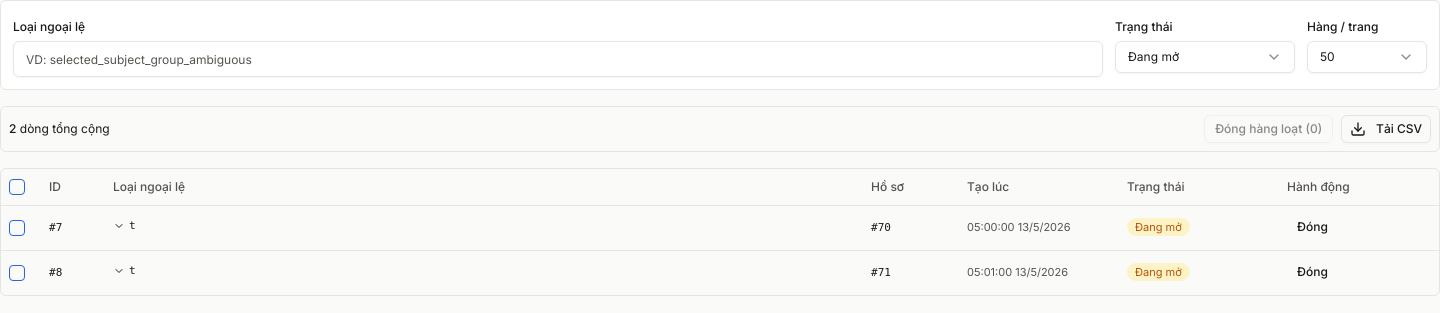
Test case: AdminBackfillQueue › checking row updates selected-counter + enables bulk button
Check: the row with test id "exception-row-7" is shown, box [1, 205, 1439, 250]
Check: the button with test id "bulk-resolve-button" is disabled, box [1204, 115, 1333, 143]
// Check row 7
Click the checkbox with test id "row-checkbox-7" at [17, 228], box [9, 220, 25, 236]
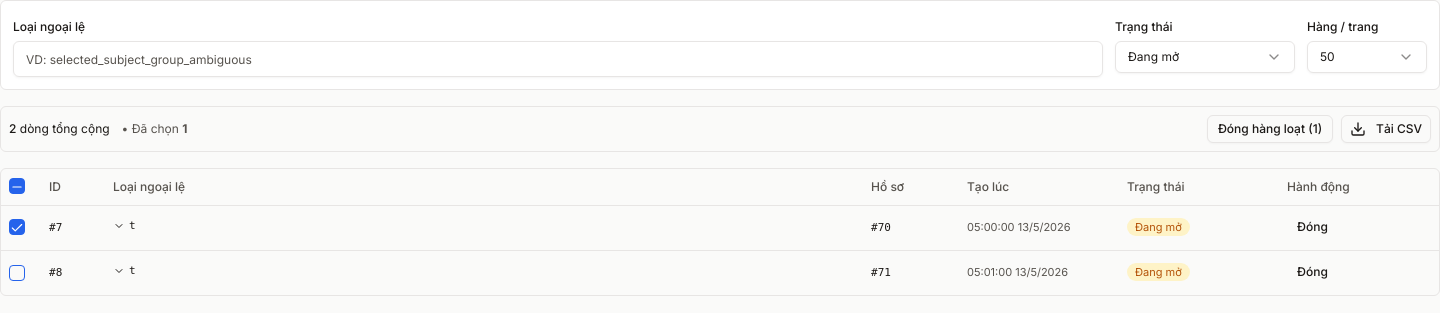
Check: the text with test id "selected-counter" reads "1", box [182, 121, 188, 136]
Check: the button with test id "bulk-resolve-button" is enabled, box [1207, 115, 1333, 143]
